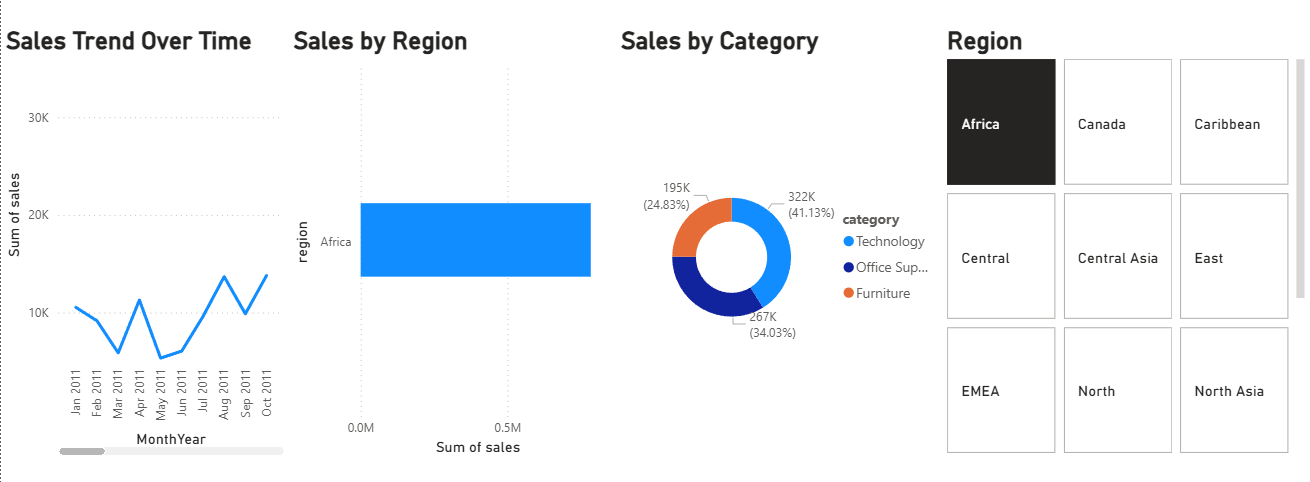

This screenshot's page, from the dashboard's own definition file:
{"tool":"powerbi","page":{"name":"Page 1","canvas":[1280,720],"ordinal":0},"visuals":[{"type":"lineChart","title":"Sales Trend Over Time","fields":{"Category":["superstore_sales.MonthYear"],"Y":["Sum(superstore_sales.sales)"]},"box":[0,178.8,281.6,424.6],"z":0},{"type":"clusteredBarChart","title":"Sales by Region","fields":{"Category":["superstore_sales.region"],"Y":["Sum(superstore_sales.sales)"]},"box":[281.6,178.8,319.6,424.6],"z":1000},{"type":"donutChart","title":"Sales by Category","fields":{"Category":["superstore_sales.category"],"Y":["Sum(superstore_sales.sales)"]},"box":[601.1,178.8,319.6,424.6],"z":2000},{"type":"advancedSlicerVisual","title":"Region","fields":{"Values":["superstore_sales.region"]},"box":[920.7,178.8,359.8,424.6],"z":3000},{"type":"textbox","box":[0,58.1,1280.5,120.7],"z":4000}]}

Visuals, with their boxes on the page's 1280x720 design canvas (x1, y1, x2, y2). These are canvas units, not pixel positions in the 1310x482 screenshot, which may show the page scaled, cropped or inside an application window:
"Sales Trend Over Time" lineChart: (0,179,282,603)
"Sales by Region" clusteredBarChart: (282,179,601,603)
"Sales by Category" donutChart: (601,179,921,603)
"Region" advancedSlicerVisual: (921,179,1280,603)
textbox: (0,58,1280,179)
